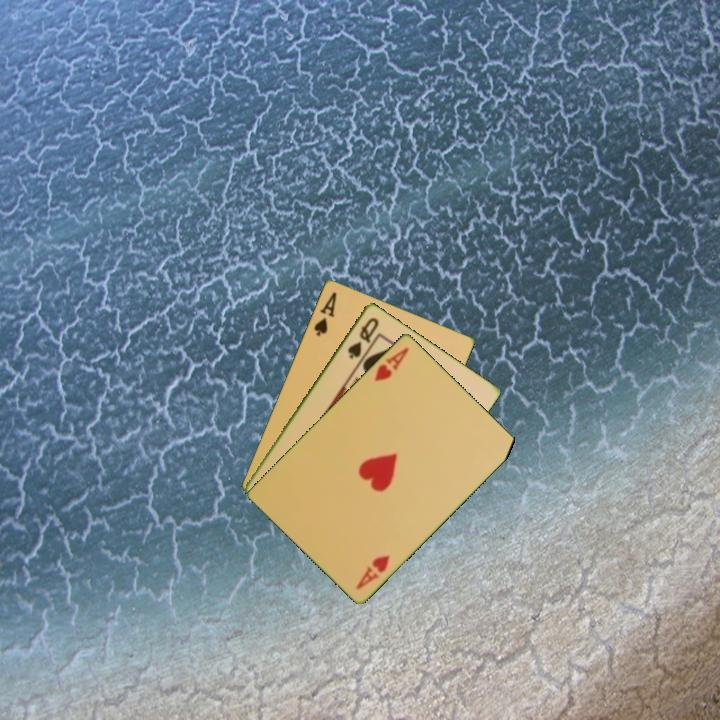Ah: (371, 343, 412, 384), (352, 551, 393, 592)
As: (310, 288, 339, 339)
Qs: (344, 313, 382, 362)
